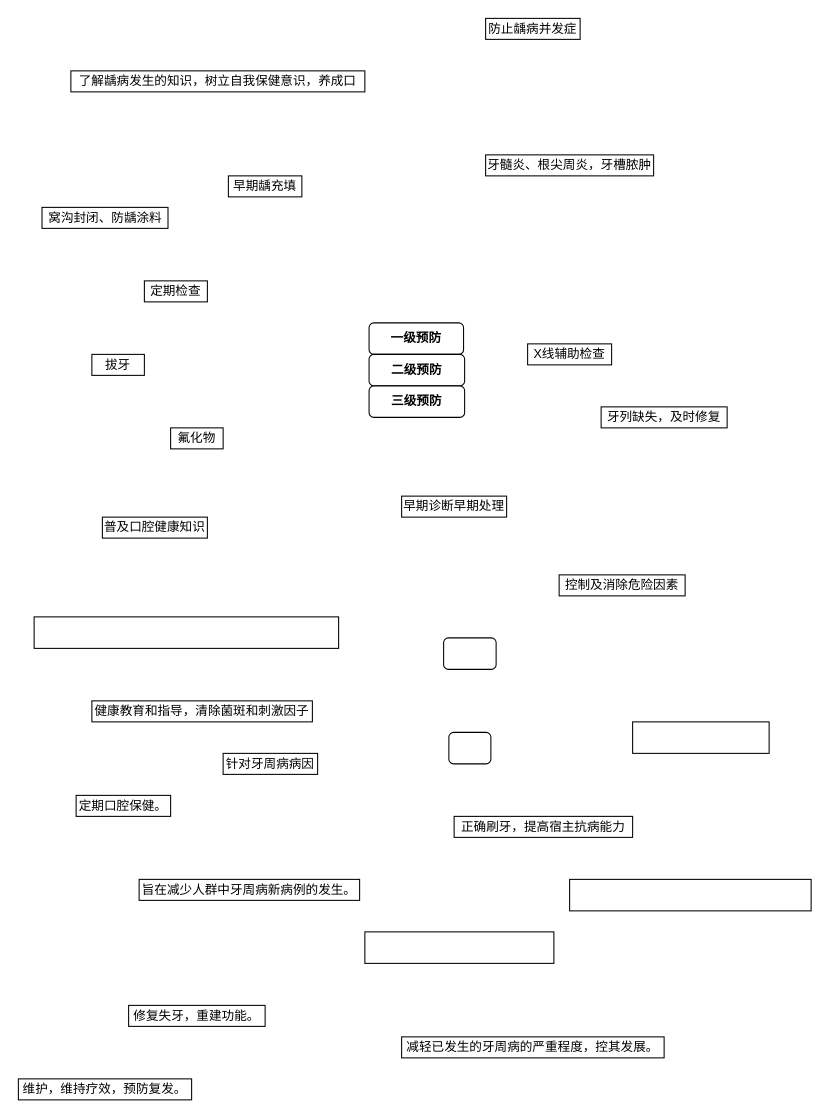
This 829x1118 diagram has some shape labels left out. Each missing label, with the centre of its shape:
"早期发现、早期诊断、早期治疗" belongs at [459,947].
"治疗全身性疾病，如糖尿病，增强牙周组织的抵抗力" belongs at [186,632].
"洁治，去除菌斑和牙石" belongs at [700,737].
"牙周病" belongs at [469,653].
"牙周病发展到严重和晚期采取的治疗措施" belongs at [690,894].
"龋病" belongs at [469,747].
